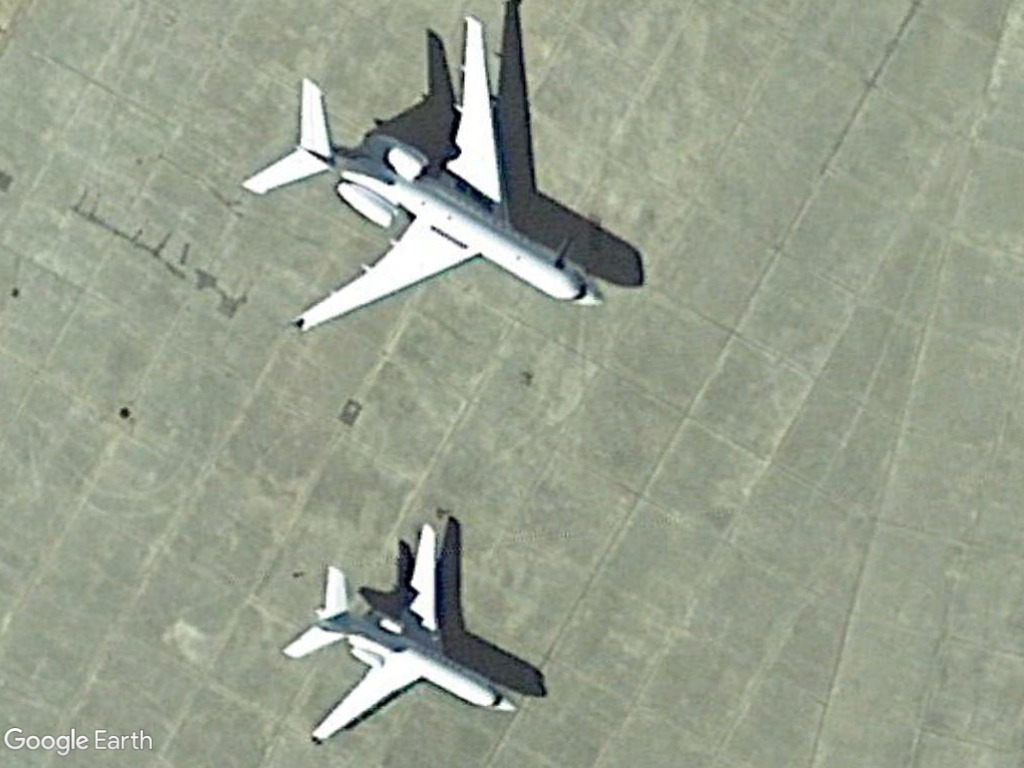chartered: (239, 11, 620, 342), (274, 517, 514, 751)
